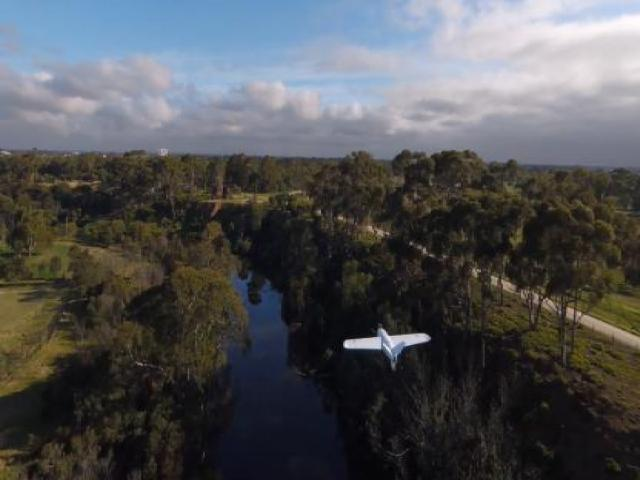uav: (339, 320, 433, 372)
